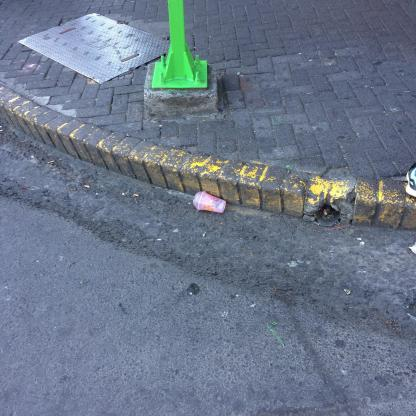trash: (191, 189, 229, 214)
